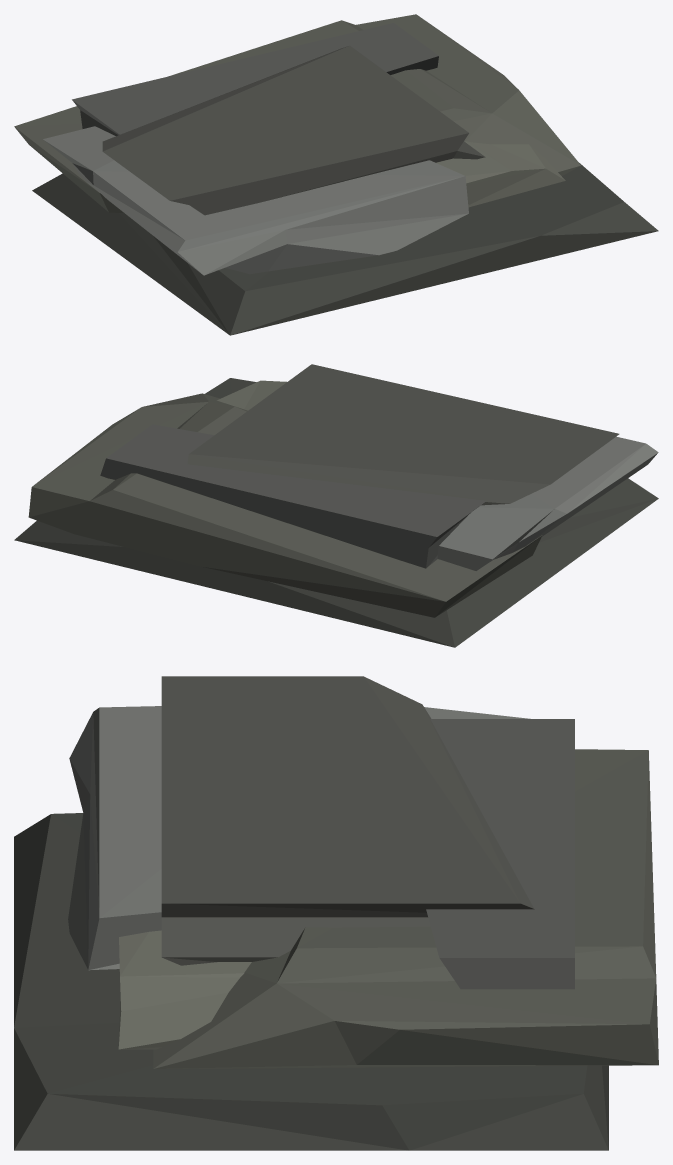
The model's file is DD_Rock011.fbx.
3 views of the same model, one above another, from view 1: azimuth 30°, elevation 25°; view 2: azimuth 150°, elevation 25°; view 3: azimuth 270°, elevation 25° (orthographic). The views are drawn at different scales.
Parts seen in each view (by area): view 1: DD_Rock011; view 2: DD_Rock011; view 3: DD_Rock011.
Boxes of the visible parts, left/top/right/bottom form: DD_Rock011: left=14, top=14, right=658, bottom=335; DD_Rock011: left=14, top=364, right=658, bottom=647; DD_Rock011: left=14, top=676, right=658, bottom=1150.
Size of the model in its own units: 84.75 by 18.08 by 69.36.
1 material, 1 textured.
